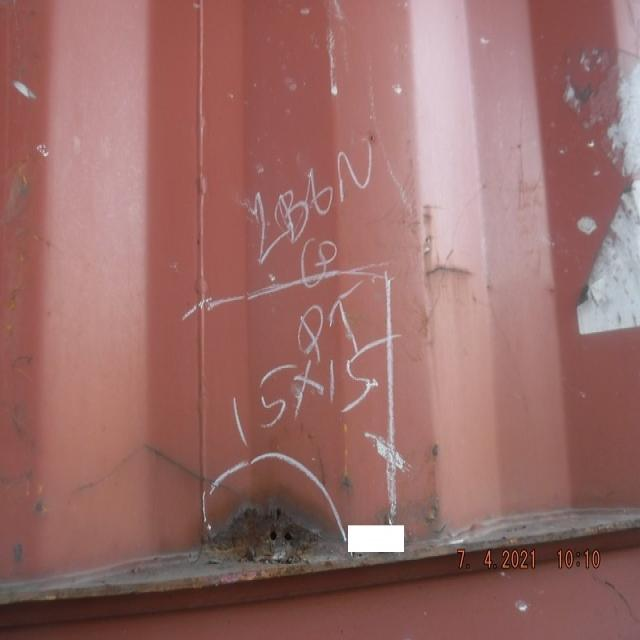hole: (210, 506, 322, 569)
